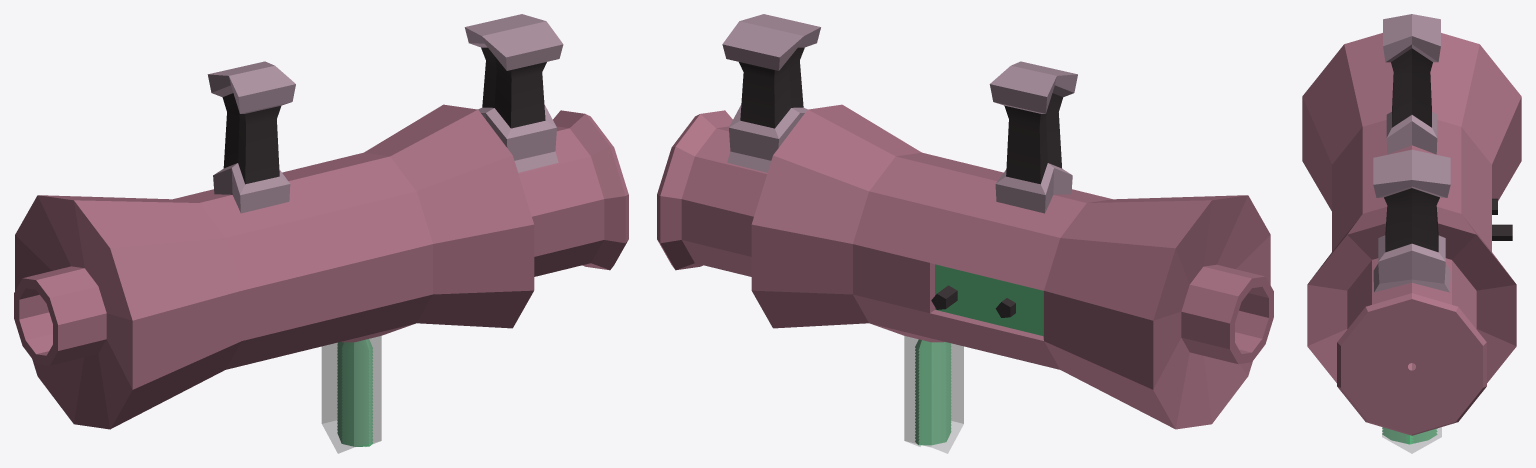
File: Cup Cake Gun.fbx
3 renders of one model, left to right at view 1: azimuth 30°, elevation 25°; view 2: azimuth 150°, elevation 25°; view 3: azimuth 270°, elevation 25°, orthographic. The views are drawn at different scales.
Parts seen in each view (by area): view 1: polySurface447; view 2: polySurface447; view 3: polySurface447.
Boxes of the visible parts, left/top/right/bottom form: polySurface447: left=14, top=14, right=628, bottom=453; polySurface447: left=657, top=14, right=1273, bottom=453; polySurface447: left=1302, top=14, right=1521, bottom=453.
Bounding box in the file's own units: 1.44 × 1 × 0.5284.
